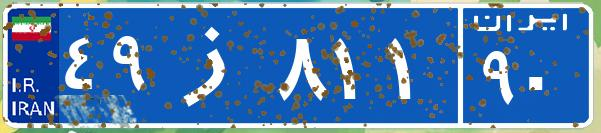0: (525, 38, 570, 115)
1: (385, 28, 445, 110), (330, 28, 385, 110)
4: (57, 26, 110, 107)
8: (273, 28, 330, 110)
9: (475, 38, 525, 113), (110, 28, 158, 105)
ز: (158, 15, 273, 115)
